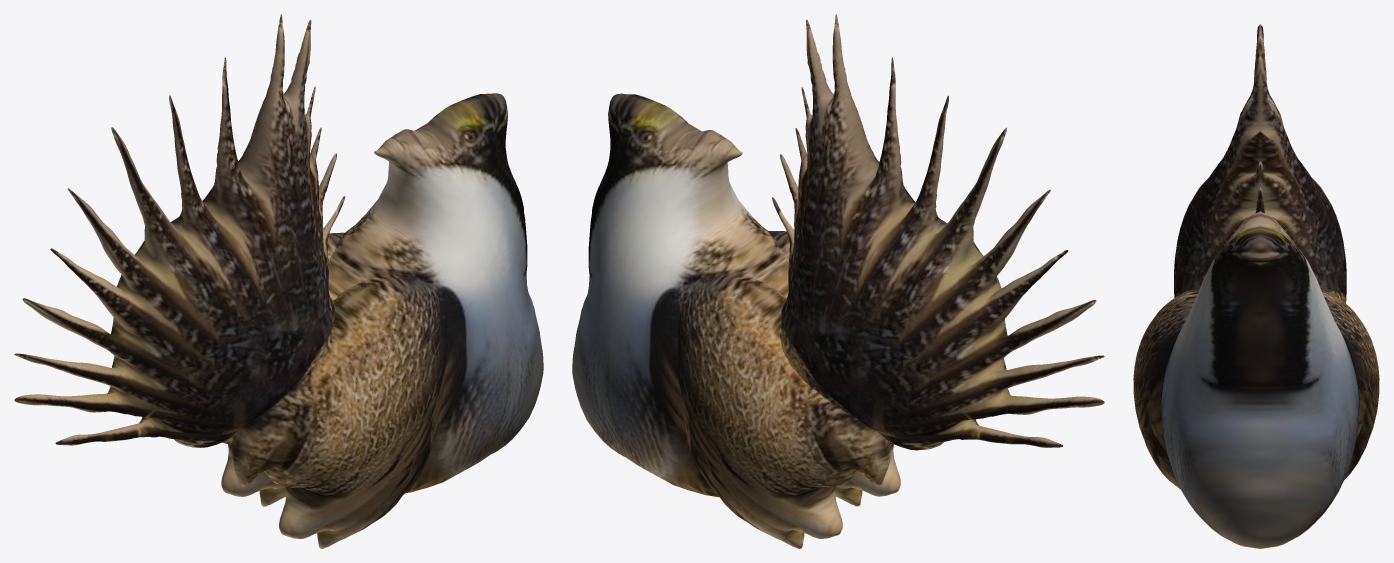
The model's file is greater-sage-grouse.glb.
3 renders of one model, left to right at view 1: azimuth 30°, elevation 25°; view 2: azimuth 150°, elevation 25°; view 3: azimuth 270°, elevation 25°, orthographic. The views are drawn at different scales.
Parts seen in each view (by area): view 1: mm_frame (51); view 2: mm_frame (51); view 3: mm_frame (51).
Boxes of the visible parts, x1,y1,x2,y2 form: mm_frame (51): (14, 14, 543, 548); mm_frame (51): (572, 14, 1104, 548); mm_frame (51): (1133, 24, 1379, 548).
Bounding box in the file's own units: 4.83 × 4.56 × 2.18.
1 material, 1 textured.
